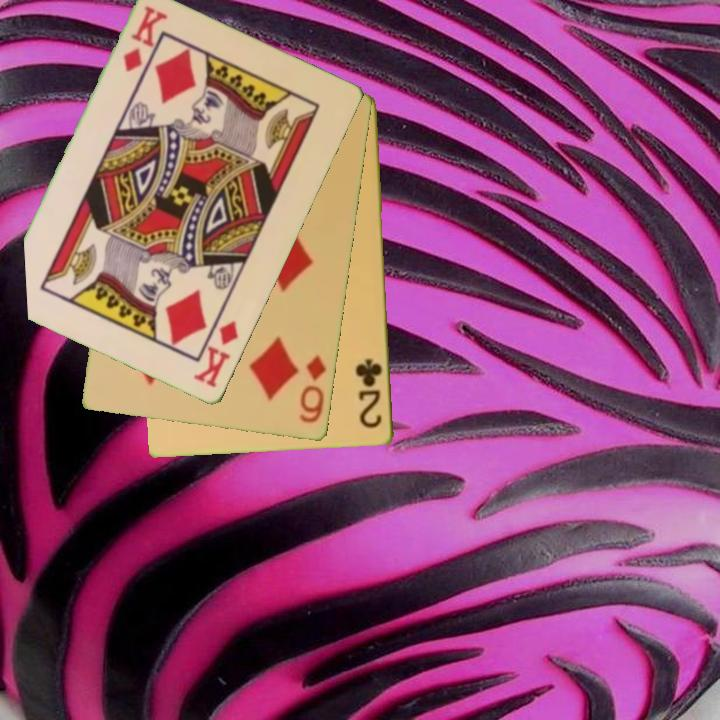2c: (353, 355, 386, 432)
6d: (296, 352, 330, 427)
Kd: (190, 317, 242, 391), (119, 3, 170, 76)
